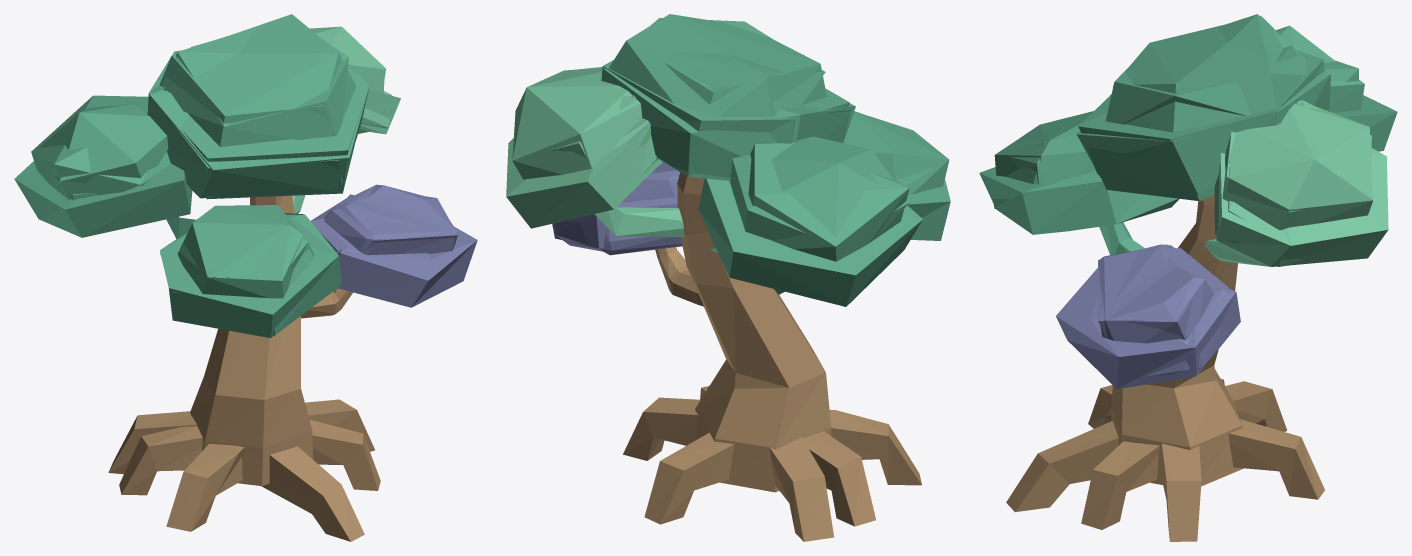
File: env_tree.glb
The picture shows the model from 3 angles, left to right: view 1: azimuth 30°, elevation 25°; view 2: azimuth 150°, elevation 25°; view 3: azimuth 270°, elevation 25°; orthographic projection. The views are drawn at different scales.
Visible parts, largest first — view 1: Env_TreeCanopy3, Env_TreeCanopy1, Env_TreeFlare, Env_TreeTrunk, Env_TreeCanopy0, Env_TreeCanopy2; view 2: Env_TreeCanopy3, Env_TreeTrunk, Env_TreeCanopy2, Env_TreeFlare, Env_TreeCanopy1, Env_TreeCanopy0; view 3: Env_TreeCanopy3, Env_TreeCanopy2, Env_TreeFlare, Env_TreeCanopy0, Env_TreeCanopy1, Env_TreeTrunk.
Boxes of the visible parts, box(x1,y1,x2,y2) form: Env_TreeCanopy3: box(14, 14, 369, 238); Env_TreeCanopy1: box(160, 205, 341, 337); Env_TreeFlare: box(108, 399, 380, 541); Env_TreeTrunk: box(190, 195, 352, 485); Env_TreeCanopy0: box(311, 184, 477, 307); Env_TreeCanopy2: box(292, 26, 400, 213); Env_TreeCanopy3: box(601, 14, 922, 306); Env_TreeTrunk: box(655, 172, 831, 492); Env_TreeCanopy2: box(506, 67, 684, 237); Env_TreeFlare: box(623, 386, 921, 541); Env_TreeCanopy1: box(774, 111, 950, 294); Env_TreeCanopy0: box(552, 162, 682, 255); Env_TreeCanopy3: box(1076, 14, 1397, 201); Env_TreeCanopy2: box(1204, 100, 1388, 266); Env_TreeFlare: box(1006, 379, 1324, 541); Env_TreeCanopy0: box(1056, 244, 1240, 389); Env_TreeCanopy1: box(979, 111, 1179, 255); Env_TreeTrunk: box(1111, 195, 1243, 486).
Size of the model in its own units: 4.09 by 4.53 by 3.72.
